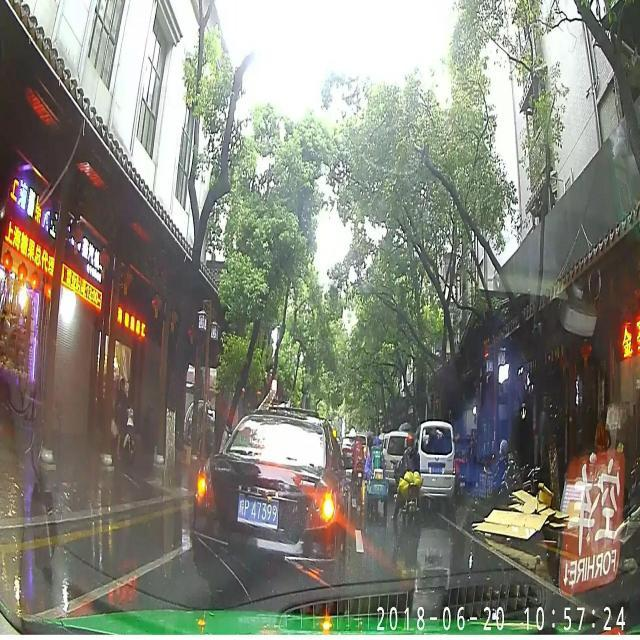car: (194, 410, 354, 606), (414, 418, 454, 502)
